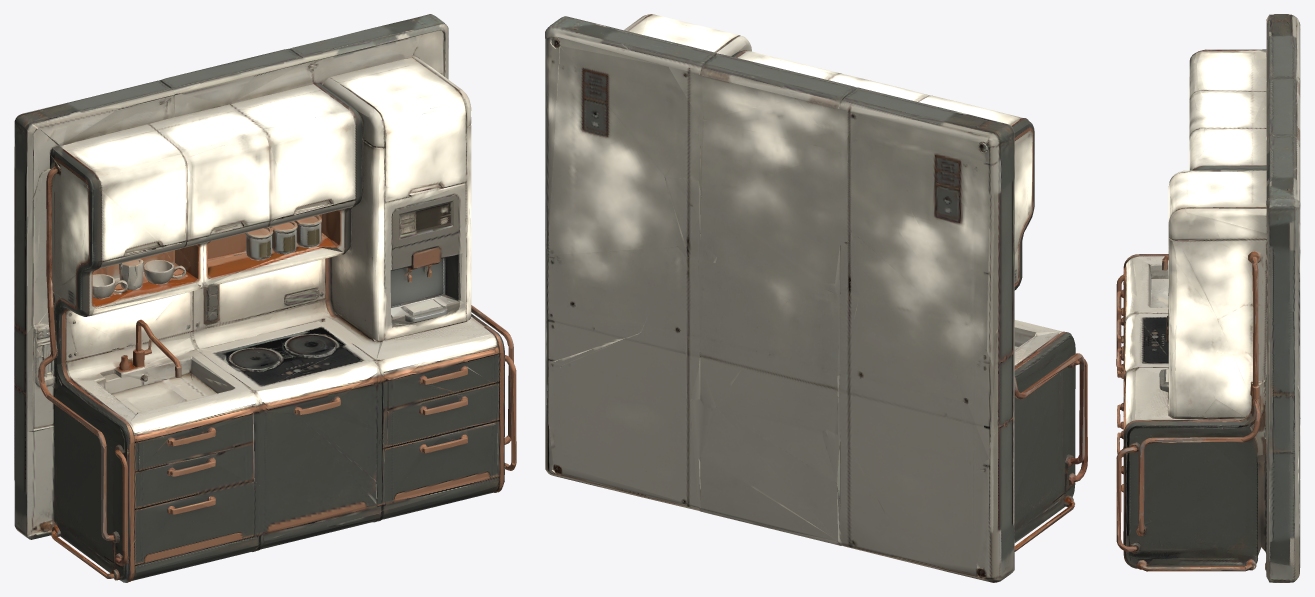
The model's file is frontier-galley.glb.
The picture shows the model from 3 angles, left to right: view 1: azimuth 30°, elevation 25°; view 2: azimuth 150°, elevation 25°; view 3: azimuth 270°, elevation 25°; orthographic projection. The views are drawn at different scales.
Visible parts, largest first — view 1: frontier_galley_000; view 2: frontier_galley_000; view 3: frontier_galley_000.
Boxes of the visible parts, x1=… form: frontier_galley_000: x1=14, y1=14, x2=516, y2=582; frontier_galley_000: x1=545, y1=14, x2=1087, y2=582; frontier_galley_000: x1=1116, y1=14, x2=1300, y2=582.
Bounding box in the file's own units: 1.95 × 1.86 × 0.8.
1 material, 1 textured.
